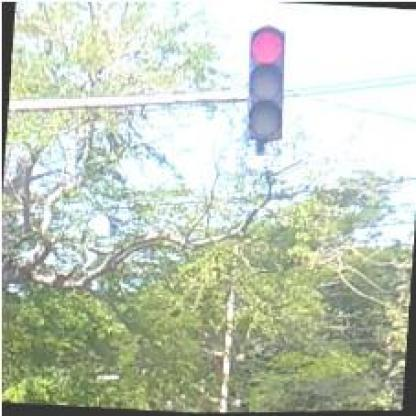red: (244, 29, 288, 140)
